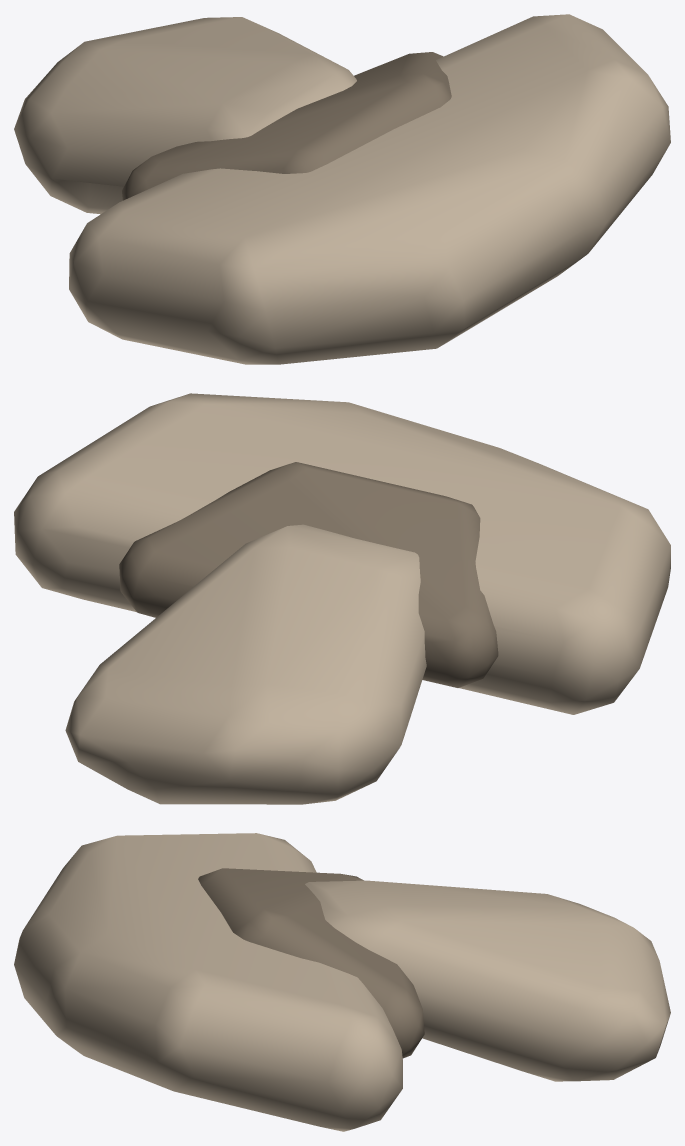
File: mushroom_slice.glb
3 views of the same model, one above another, from view 1: azimuth 30°, elevation 25°; view 2: azimuth 150°, elevation 25°; view 3: azimuth 270°, elevation 25° (orthographic). The views are drawn at different scales.
Parts seen in each view (by area): view 1: LODGroup_11, LODGroup_9, LODGroup_7; view 2: LODGroup_11, LODGroup_9, LODGroup_7; view 3: LODGroup_11, LODGroup_9, LODGroup_7.
Boxes of the visible parts, x1,y1,x2,y2 form: LODGroup_11: [69, 14, 670, 364]; LODGroup_9: [14, 17, 356, 214]; LODGroup_7: [122, 52, 451, 200]; LODGroup_11: [14, 393, 670, 714]; LODGroup_9: [65, 524, 426, 804]; LODGroup_7: [119, 462, 498, 687]; LODGroup_11: [14, 833, 402, 1131]; LODGroup_9: [305, 880, 670, 1081]; LODGroup_7: [198, 868, 424, 1058].
Size of the model in its own units: 0.0418 by 0.0135 by 0.0446.
